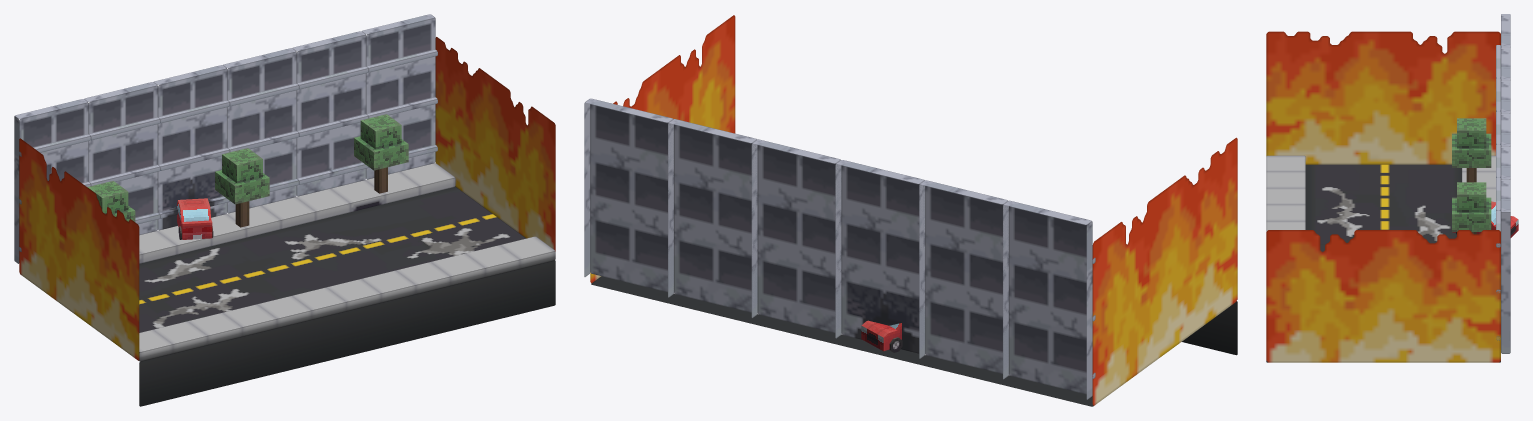
File: long.fbx
3 renders of one model, left to right at view 1: azimuth 30°, elevation 25°; view 2: azimuth 150°, elevation 25°; view 3: azimuth 270°, elevation 25°, orthographic. The views are drawn at different scales.
Visible parts, largest first — view 1: cube_3, cube, cube_1, cube_5, building_5, building_3, cube_4, building_6, building_4, building_2, building, tree_1 (+9 smaller); view 2: cube, building, building_4, building_5, building_2, building_6, building_3, cube_3, cube_1, carmain; view 3: cube_1, cube, cube_3, cube_5, tree, tree_1, building_6, cube_4, building, building_2, building_3, building_4 (+2 smaller).
Boxes of the visible parts, x1,y1,x2,y2 form: cube_3: (138,186,555,406); cube: (19,138,139,360); cube_1: (435,37,555,251); cube_5: (139,236,555,361); building_5: (292,31,366,196); building_3: (154,65,227,230); cube_4: (139,163,455,263); building_6: (362,14,435,179); building_4: (223,48,296,213); building_2: (84,82,157,234); building: (14,99,88,263); tree_1: (215,148,269,227); cube: (1092,137,1237,405); building: (1003,200,1092,399); building_4: (751,139,841,337); building_5: (668,119,757,317); building_2: (919,180,1008,378); building_6: (584,98,673,296); building_3: (835,160,924,356); cube_3: (591,276,1237,406); cube_1: (590,15,735,283); carmain: (861,320,901,351); cube_1: (1266,230,1500,362); cube: (1266,31,1500,164); cube_3: (1266,164,1500,362); cube_5: (1266,155,1305,231); tree: (1452,118,1491,182); tree_1: (1452,182,1491,234); building_6: (1501,179,1510,353); cube_4: (1462,155,1495,201); building: (1501,14,1510,80); building_2: (1501,47,1510,113); building_3: (1501,80,1510,146); building_4: (1501,113,1510,179).
Bounding box in the file's own units: 600 × 275 × 322.
6 materials, 6 textured.
